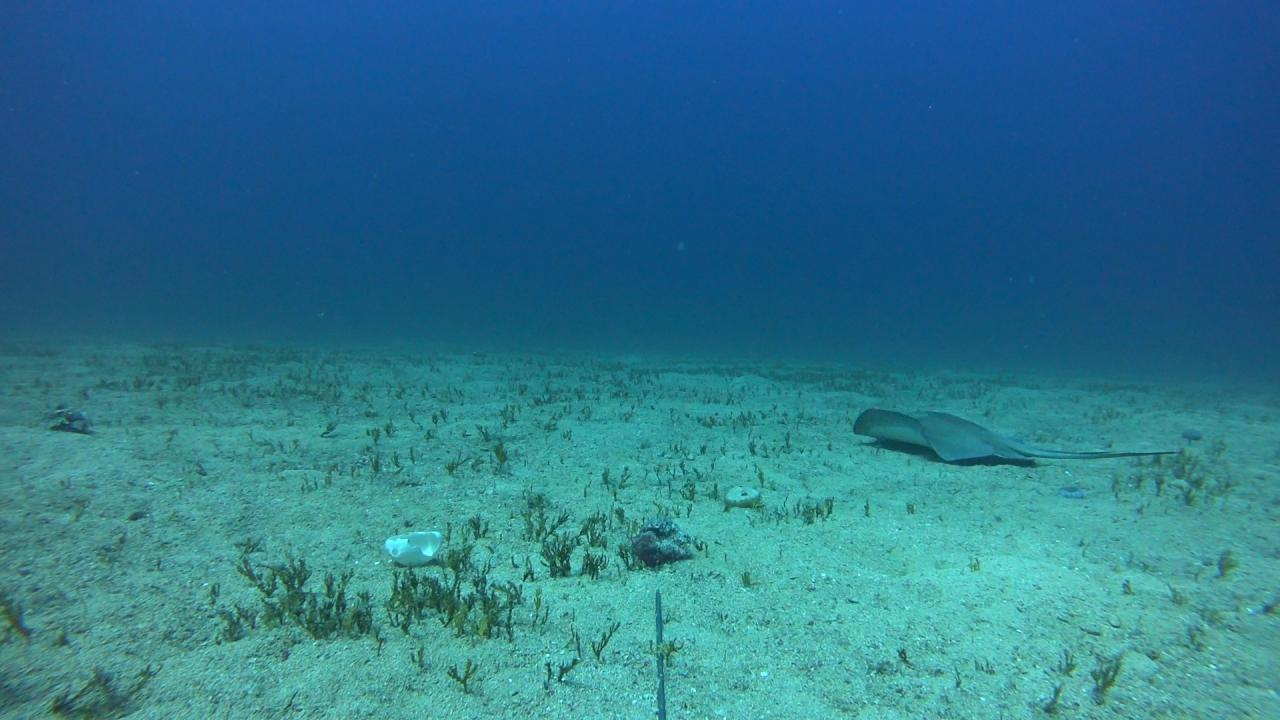dasyatis: (851, 406, 1176, 460)
